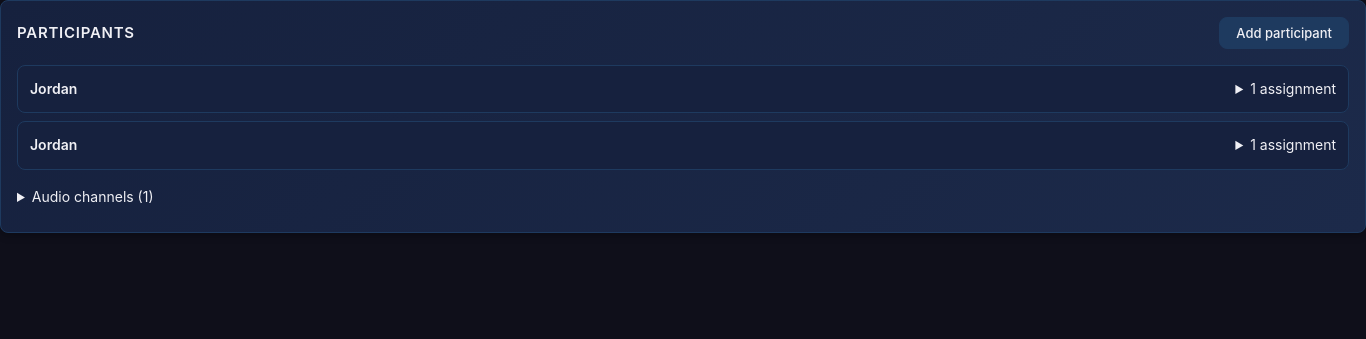
Test: MeetingParticipants › keeps same-named unlinked people distinct and labels shared audio channels honestly
Check: the text "Jordan" is shown 2 times, box [30,80,77,97]; [30,136,77,153]
Click the heading "Audio channels (1)" at point(93, 196), box [32,188,154,205]
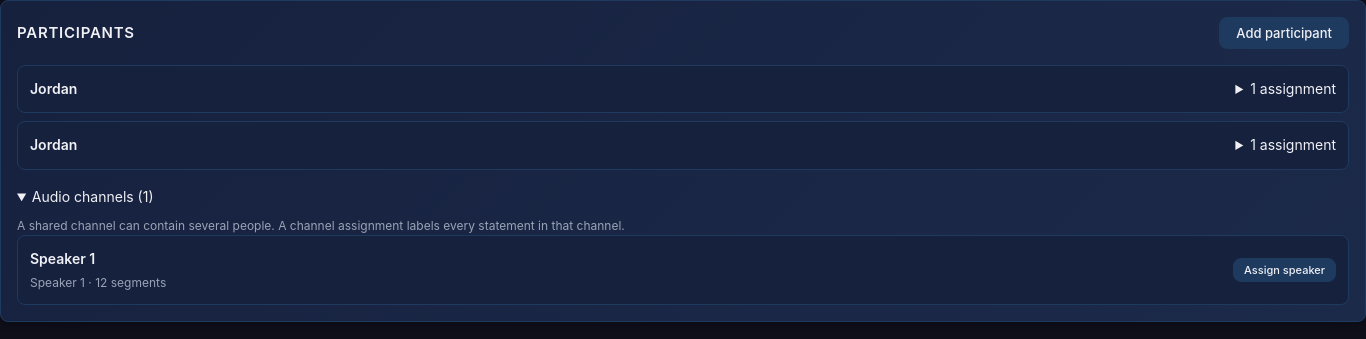
Check: the text "A shared channel can contain several people" is shown, box [17,218,625,233]
Check: the button "Assign speaker" is enabled, box [1233,258,1336,282]
